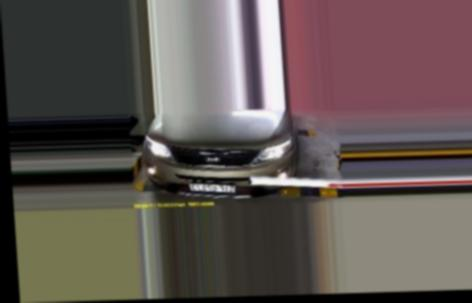License_Plate: (188, 182, 236, 193)
